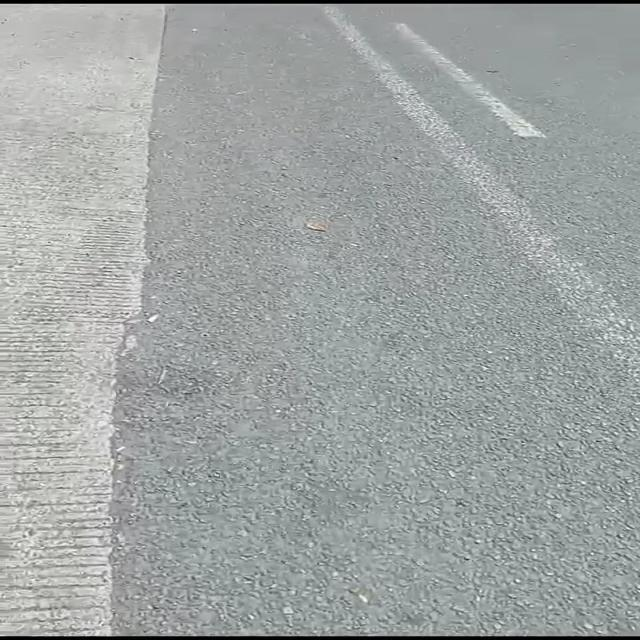Sambungan: (0, 0, 170, 640)
